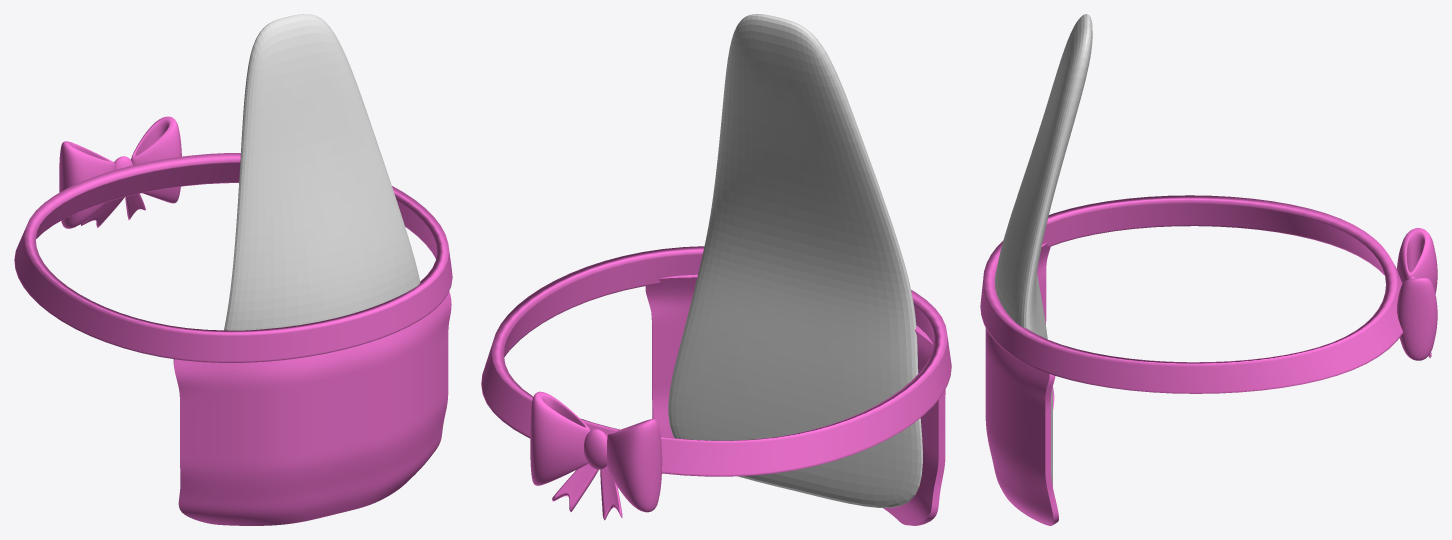
File: penguen_onluk_ve_beyaz_alan.fbx
The picture shows the model from 3 angles, left to right: view 1: azimuth 30°, elevation 25°; view 2: azimuth 150°, elevation 25°; view 3: azimuth 270°, elevation 25°; orthographic projection. The views are drawn at different scales.
Visible parts, largest first — view 1: Plane.002, Plane; view 2: Plane, Plane.002; view 3: Plane.002, Plane.
Part boxes in pixels (x1,y1,x2,y2): Plane.002: [14, 116, 452, 525]; Plane: [224, 14, 420, 330]; Plane: [668, 14, 922, 507]; Plane.002: [481, 246, 951, 525]; Plane.002: [980, 195, 1437, 525]; Plane: [995, 14, 1092, 486].
Bounding box in the file's own units: 225 × 273 × 249.
